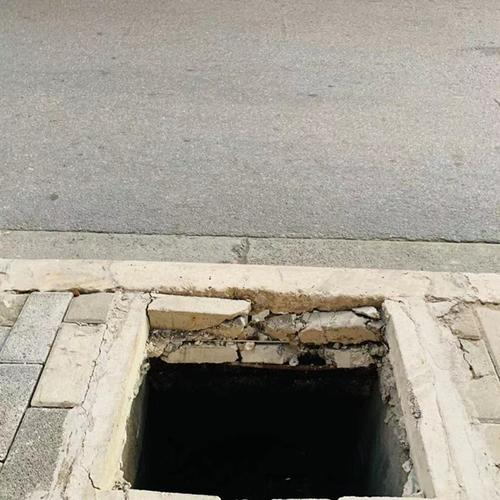lose: (90, 268, 460, 498)
